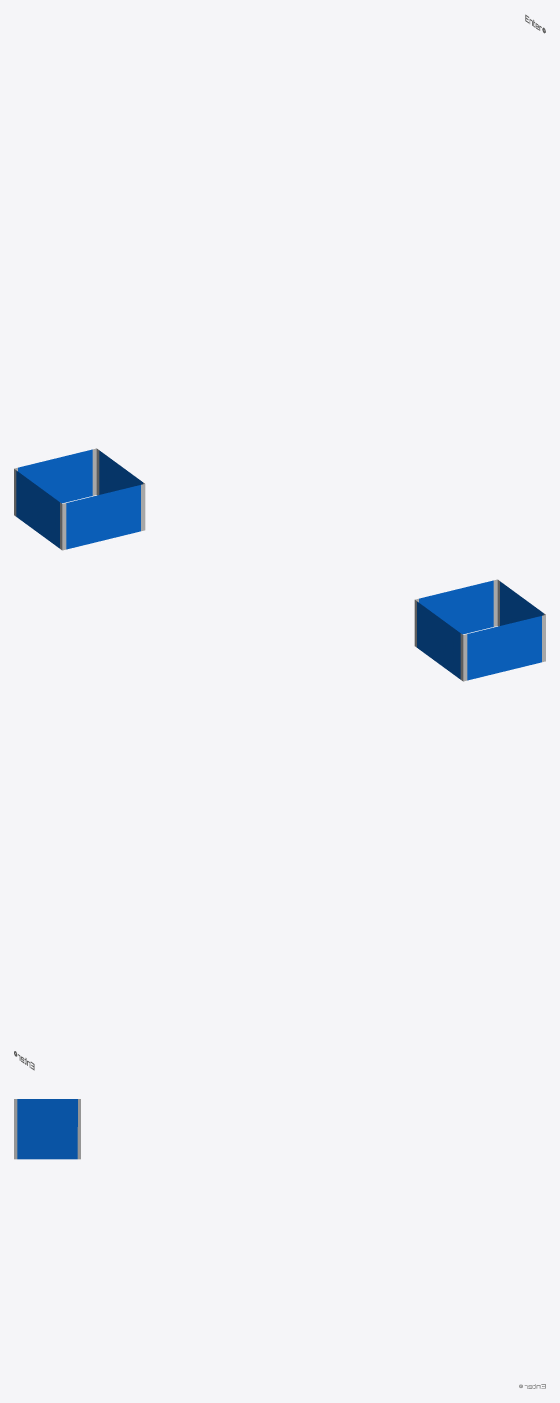
Rendered from mustangEffects.glb.
3 views of the same model, one above another, from view 1: azimuth 30°, elevation 25°; view 2: azimuth 210°, elevation 25°; view 3: azimuth 270°, elevation 25° (orthographic). The views are drawn at different scales.
Parts seen in each view (by area): view 1: cubeFaces.002, cubeCorners.002; view 2: cubeFaces.002, cubeCorners.002; view 3: cubeFaces.002, cubeCorners.002.
Boxes of the visible parts, left/top/right/bottom form: cubeFaces.002: left=16, top=449, right=142, bottom=549; cubeCorners.002: left=14, top=448, right=145, bottom=550; cubeFaces.002: left=417, top=580, right=543, bottom=680; cubeCorners.002: left=414, top=579, right=545, bottom=681; cubeFaces.002: left=17, top=1099, right=77, bottom=1159; cubeCorners.002: left=14, top=1099, right=80, bottom=1159.
Bounding box in the file's own units: 863 × 48.13 × 676.
